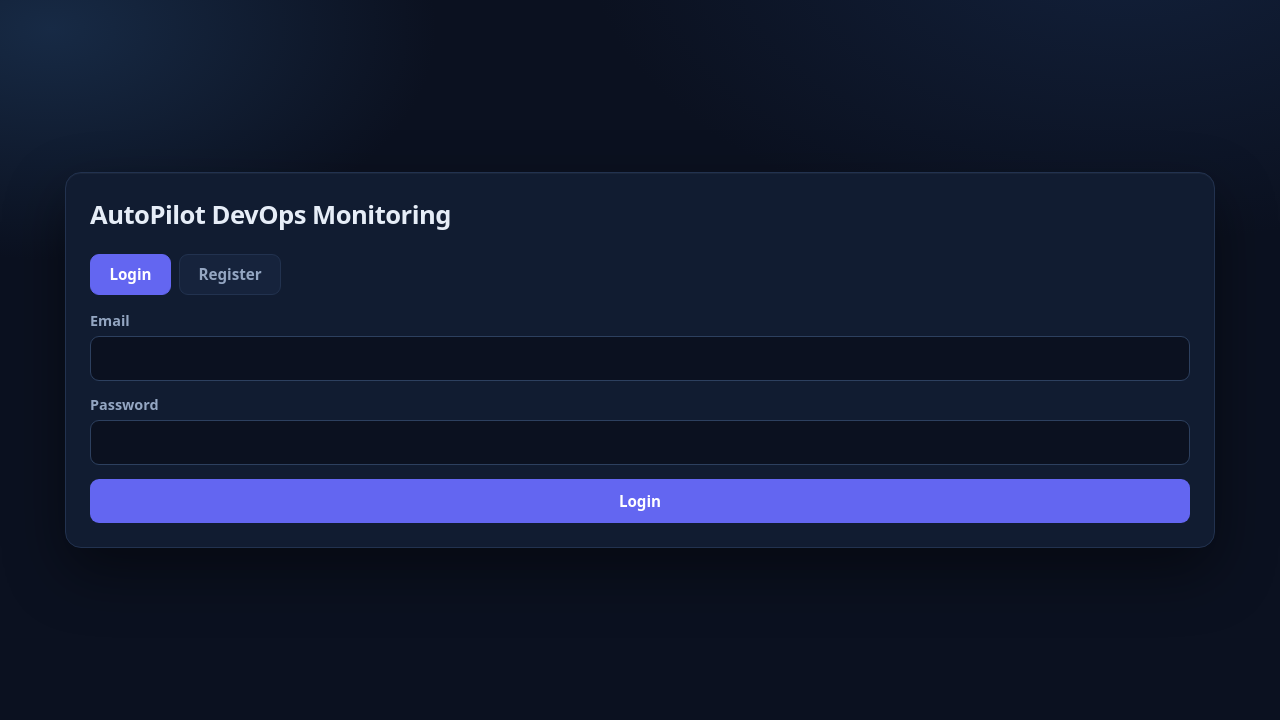
Test case: App › switches to register form
The image size is (1280, 720).
Click the button "Register" at (230, 274), box [179, 254, 281, 295]
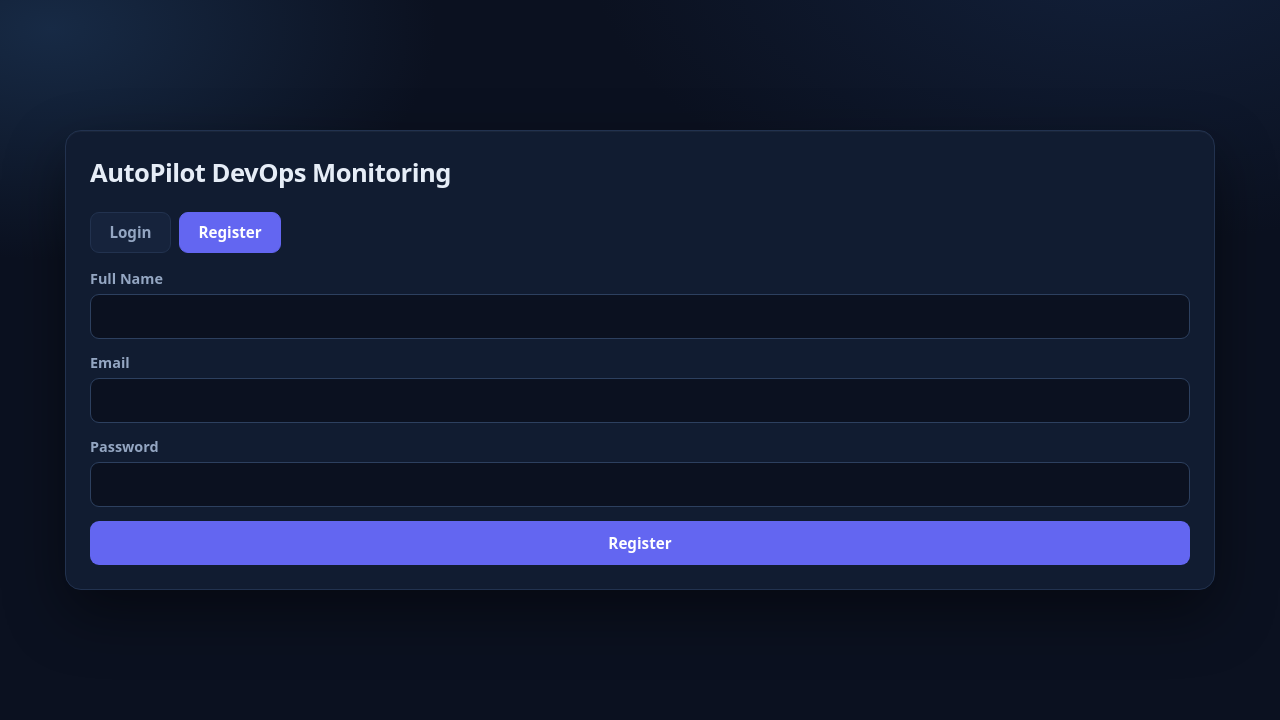
Expected: the field labelled "Full Name" is shown, [90, 294, 1190, 339]
